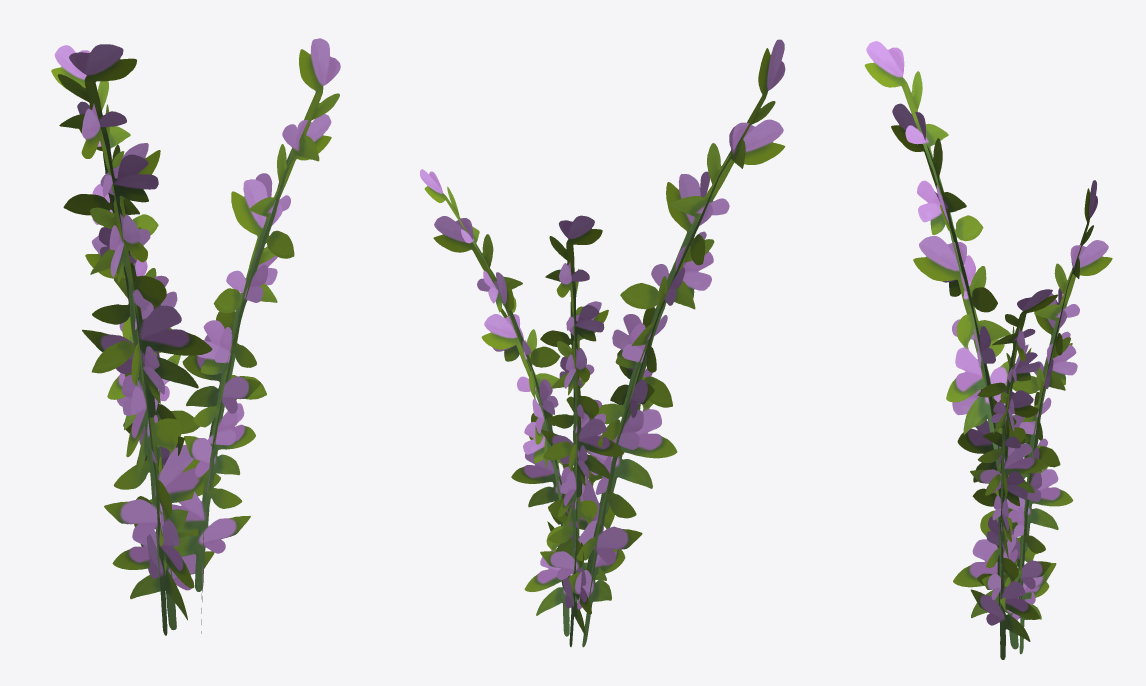
Rendered from FSS_Flower_004.FBX.
3 views of the same model, side by side, from view 1: azimuth 30°, elevation 25°; view 2: azimuth 150°, elevation 25°; view 3: azimuth 270°, elevation 25° (orthographic). The views are drawn at different scales.
Parts seen in each view (by area): view 1: FSS_Flower_004; view 2: FSS_Flower_004; view 3: FSS_Flower_004.
Boxes of the visible parts, x1,y1,x2,y2 form: FSS_Flower_004: (51,38,340,635); FSS_Flower_004: (420,39,785,647); FSS_Flower_004: (864,41,1112,659).
Bounding box in the file's own units: 49.28 × 37.8 × 81.83.
